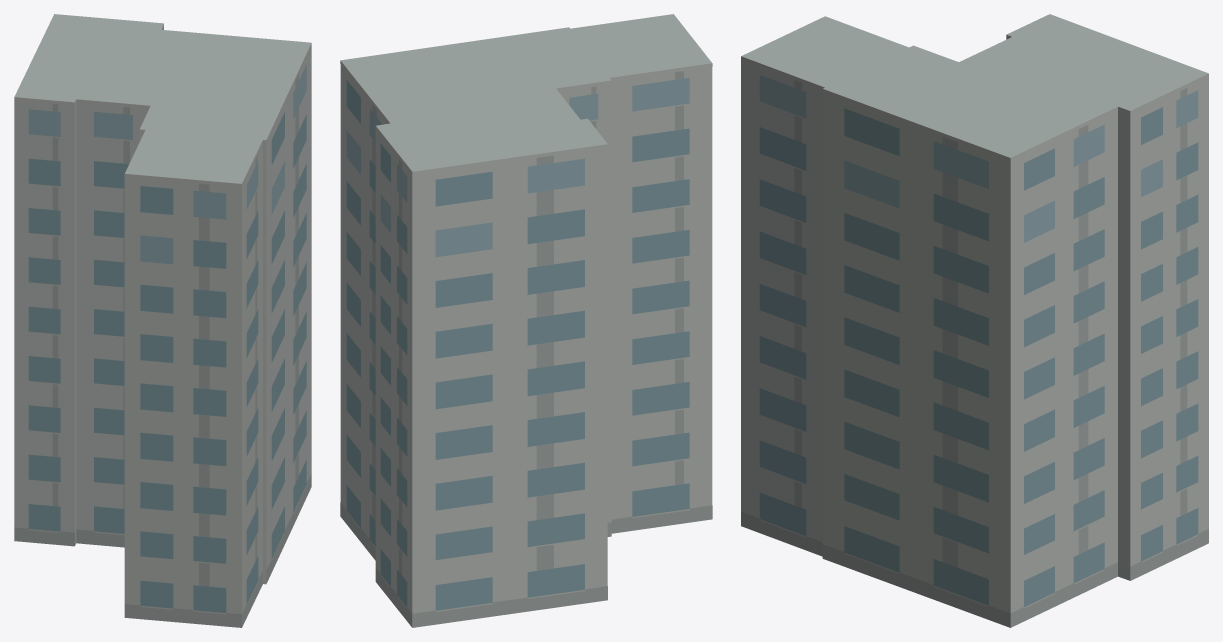
The model's file is survey-upis-32561327.glb.
The picture shows the model from 3 angles, left to right: view 1: azimuth 30°, elevation 25°; view 2: azimuth 150°, elevation 25°; view 3: azimuth 270°, elevation 25°; orthographic projection. The views are drawn at different scales.
Parts seen in each view (by area): view 1: survey-upis-32561327.tmp; view 2: survey-upis-32561327.tmp; view 3: survey-upis-32561327.tmp.
Part boxes in pixels (x1=…): survey-upis-32561327.tmp: x1=14, y1=14, x2=311, y2=627; survey-upis-32561327.tmp: x1=340, y1=14, x2=712, y2=627; survey-upis-32561327.tmp: x1=741, y1=14, x2=1208, y2=627.
Bounding box in the file's own units: 20.05 × 30.5 × 27.53.
